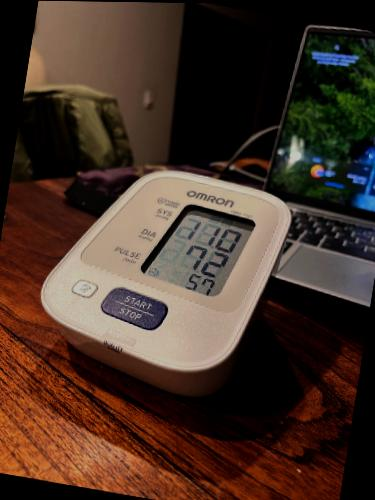bpm: (134, 188, 257, 304)
